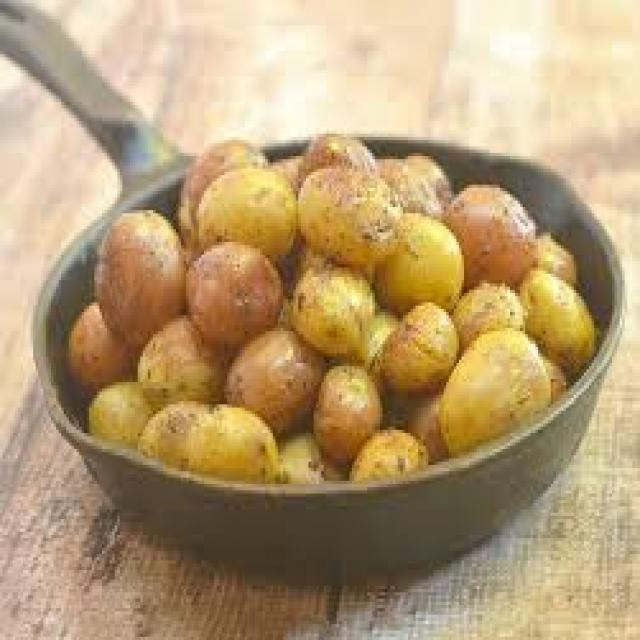Food -Biodegradable-: (63, 129, 591, 478)
